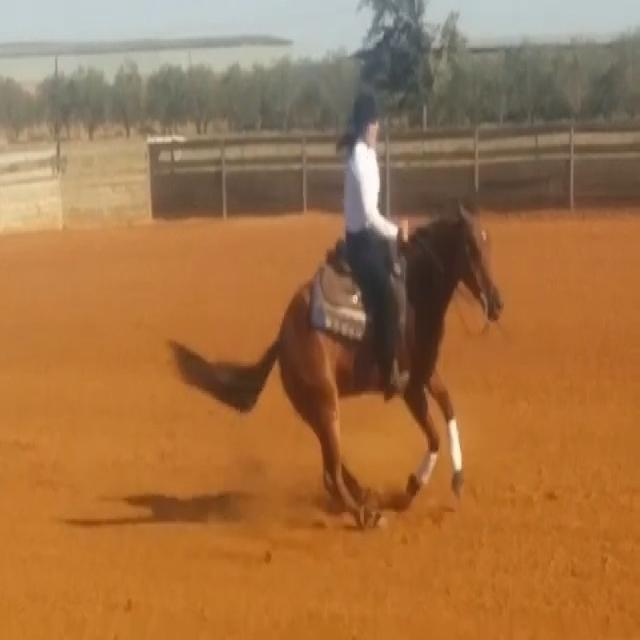horse: (165, 196, 505, 530)
